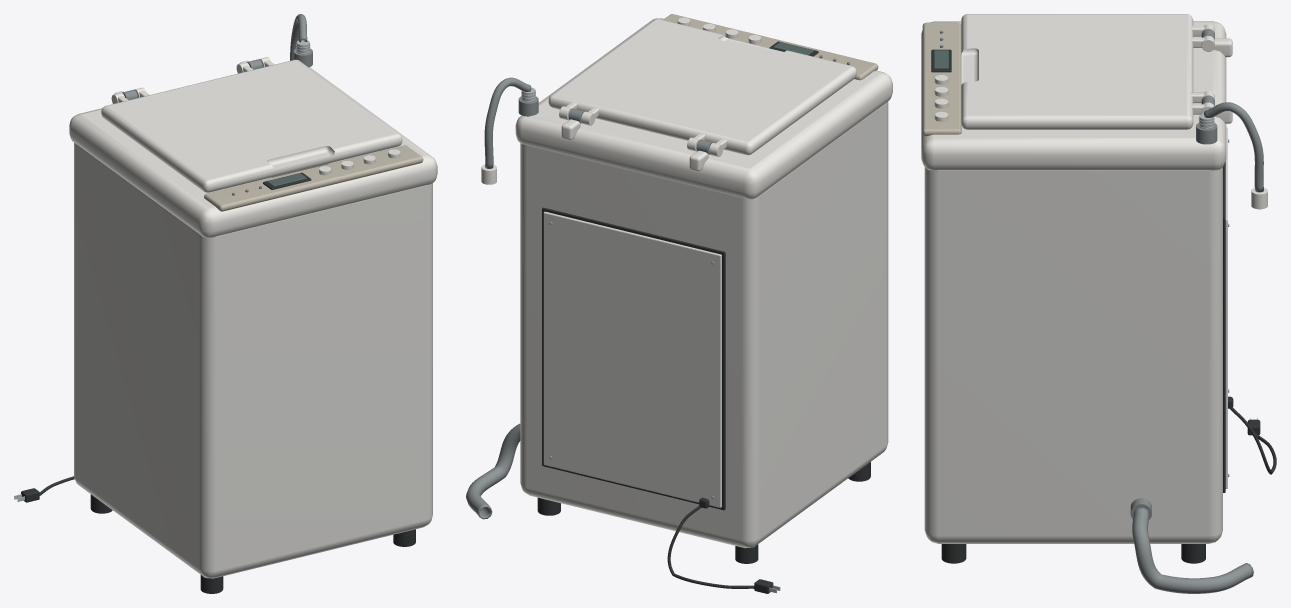
Rendered from washing_machine.glb.
The picture shows the model from 3 angles, left to right: view 1: azimuth 30°, elevation 25°; view 2: azimuth 150°, elevation 25°; view 3: azimuth 270°, elevation 25°; orthographic projection. The views are drawn at different scales.
Parts seen in each view (by area): view 1: Rounded open-top steel cabinet, Single-piece washer lid, Molded top deck, Front control fascia; view 2: Rounded open-top steel cabinet, Rear service panel, Single-piece washer lid, Molded top deck, Rear service panel shadow, Drain hose, Front control fascia, Connected supply hose, Unplugged power cable; view 3: Rounded open-top steel cabinet, Single-piece washer lid, Molded top deck, Front control fascia, Drain hose, Connected supply hose, Rear service panel, Rear service panel shadow, Adjustable rubber foot.002, Unplugged power cable, Adjustable rubber foot.003.
Boxes of the visible parts, x1,y1,x2,y2 form: Rounded open-top steel cabinet: (74,143,432,578); Single-piece washer lid: (101,59,402,192); Molded top deck: (69,67,437,238); Front control fascia: (204,145,423,211); Rounded open-top steel cabinet: (520,101,888,548); Rear service panel: (543,211,721,507); Single-piece washer lid: (548,19,856,155); Molded top deck: (515,18,892,199); Rear service panel shadow: (542,207,725,510); Drain hose: (466,423,520,519); Front control fascia: (663,14,878,80); Connected supply hose: (484,77,531,168); Unplugged power cable: (667,505,754,588); Rounded open-top steel cabinet: (924,167,1222,543); Single-piece washer lid: (961,14,1193,129); Molded top deck: (921,21,1226,170); Front control fascia: (922,22,961,136); Drain hose: (1132,507,1253,593); Connected supply hose: (1204,102,1263,192); Rear service panel: (1225,127,1227,488); Rear service panel shadow: (1223,162,1225,492); Adjustable rubber foot.002: (941,544,966,563); Unplugged power cable: (1229,407,1276,474); Adjustable rubber foot.003: (1181,544,1205,563).
Bounding box in the file's own units: 0.7291 × 0.9176 × 0.6314.
